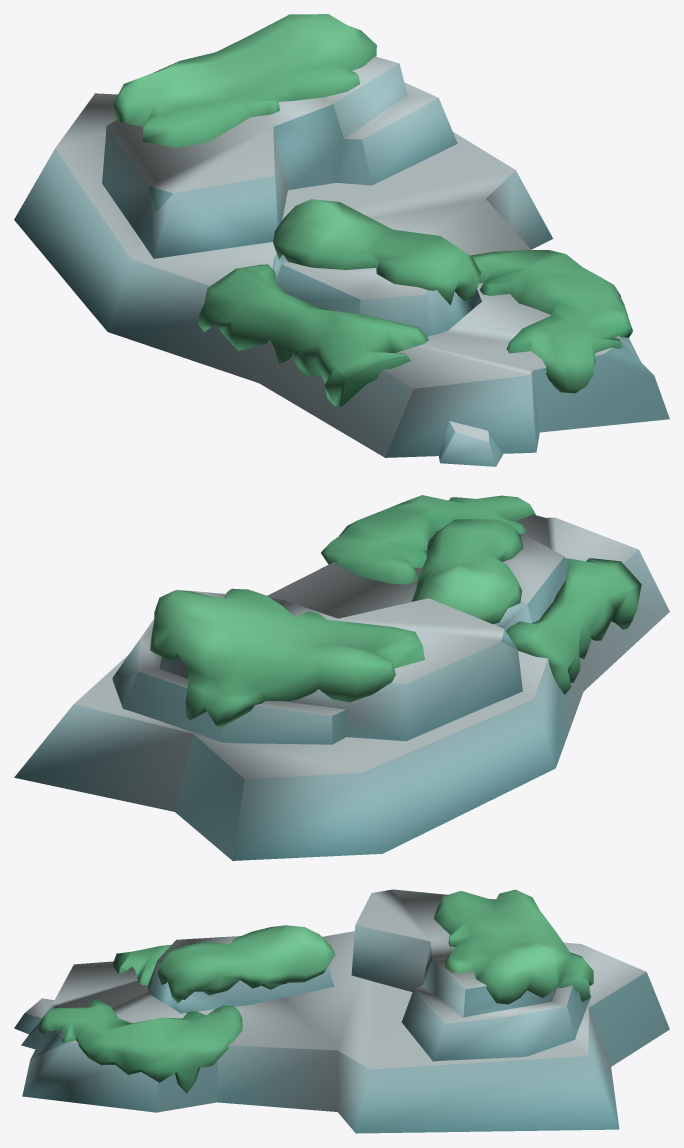
Rendered from WaterRockACollider.glb.
3 renders of one model, top to bottom at view 1: azimuth 30°, elevation 25°; view 2: azimuth 150°, elevation 25°; view 3: azimuth 270°, elevation 25°, orthographic. The views are drawn at different scales.
Parts seen in each view (by area): view 1: WaterRockACollider; view 2: WaterRockACollider; view 3: WaterRockACollider.
Boxes of the visible parts, x1=… form: WaterRockACollider: x1=14, y1=14, x2=669, y2=466; WaterRockACollider: x1=14, y1=495, x2=669, y2=860; WaterRockACollider: x1=14, y1=889, x2=669, y2=1133.
Bounding box in the file's own units: 6.69 × 2.59 × 11.35.
